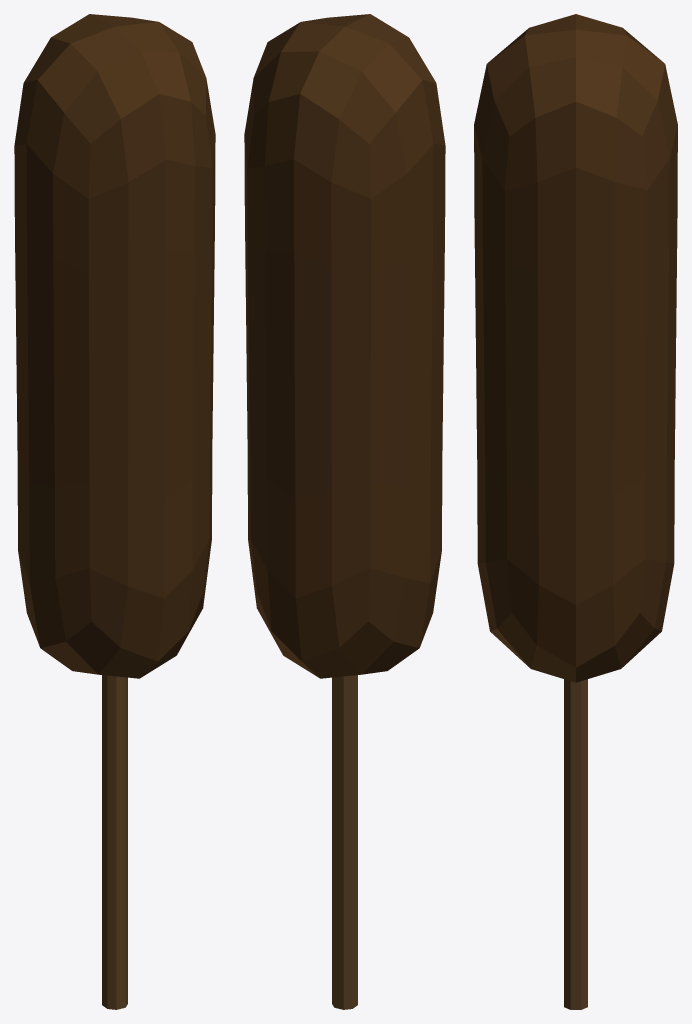
The model's file is Corndog.obj.
3 views of the same model, side by side, from view 1: azimuth 30°, elevation 25°; view 2: azimuth 150°, elevation 25°; view 3: azimuth 270°, elevation 25° (orthographic).
Parts seen in each view (by area): view 1: Corndog_Cube.027; view 2: Corndog_Cube.027; view 3: Corndog_Cube.027.
Boxes of the visible parts, left/top/right/bottom form: Corndog_Cube.027: left=14, top=14, right=215, bottom=1009; Corndog_Cube.027: left=244, top=14, right=445, bottom=1009; Corndog_Cube.027: left=474, top=14, right=677, bottom=1009.
Bounding box in the file's own units: 0.2562 × 1.35 × 0.2562.
